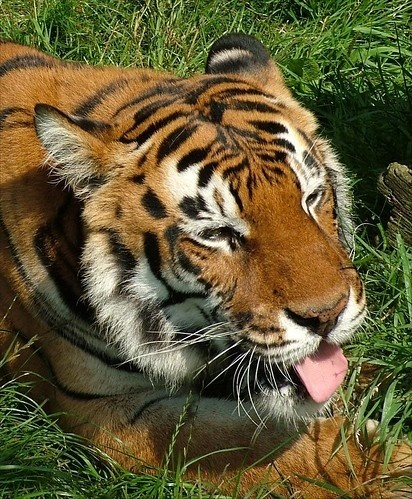tigre: (1, 33, 408, 496)
